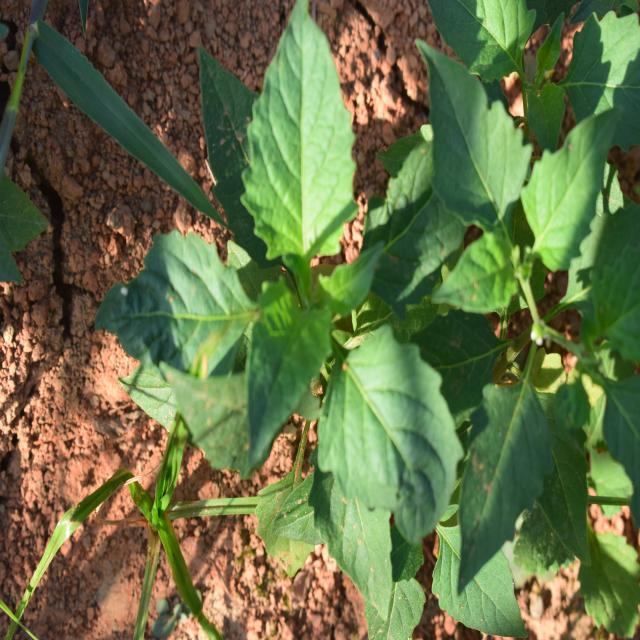Black_nightshade: (150, 23, 464, 550), (414, 19, 639, 561)
